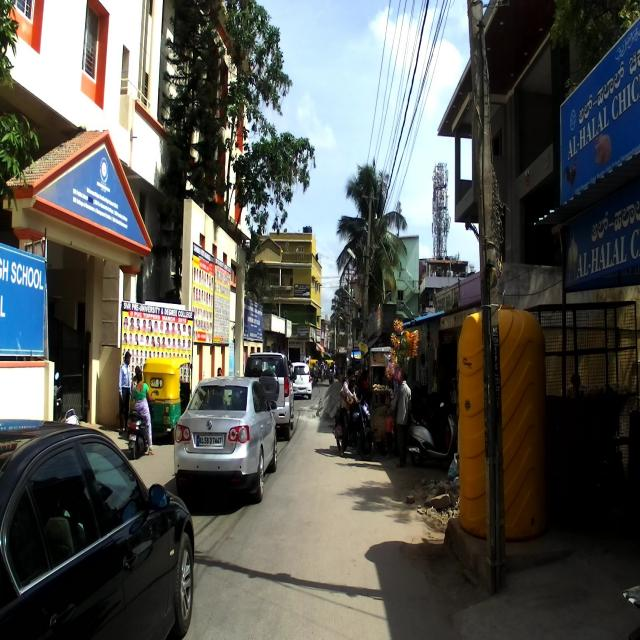Car_BMW: (0, 418, 195, 640)
Car_Volkswagen: (174, 375, 278, 504)
motorcycle_bajaj: (332, 385, 376, 461)
scooter: (406, 395, 459, 464)
